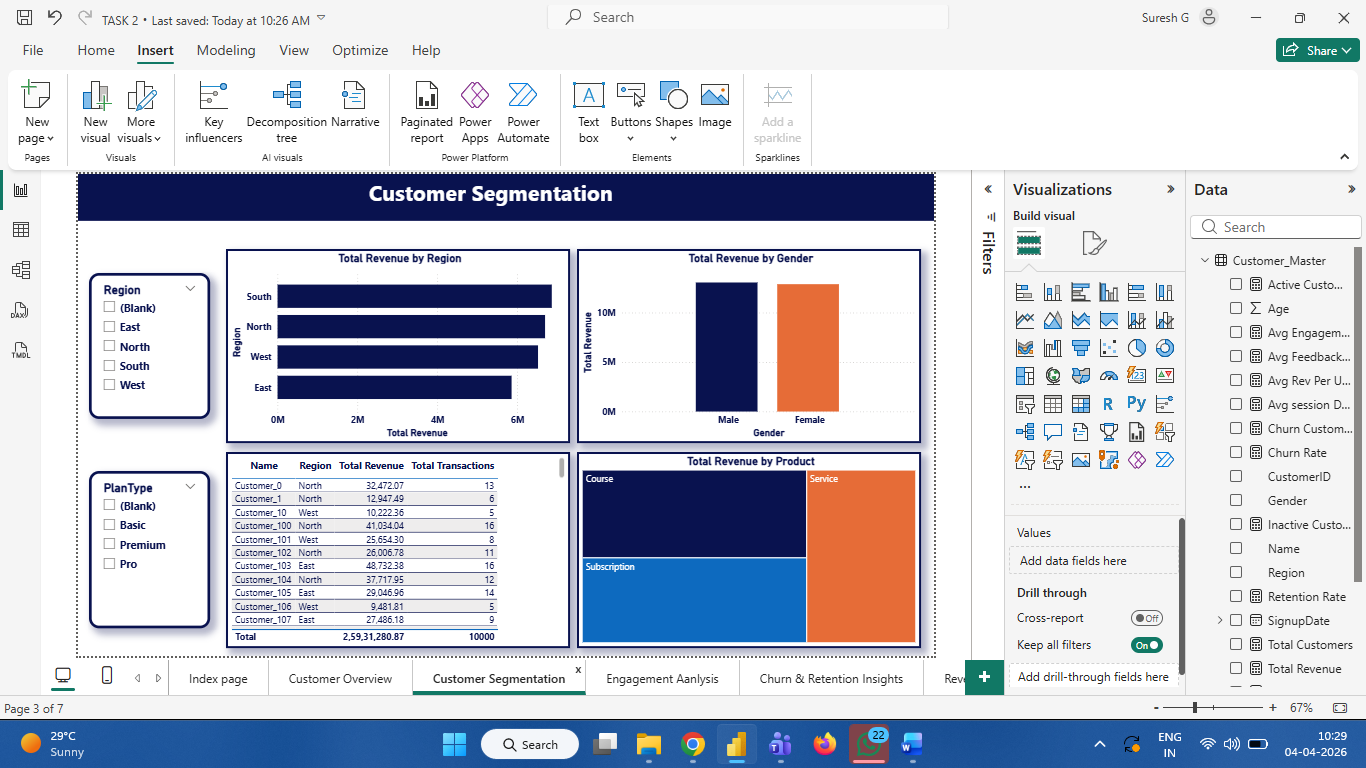

What the dashboard file says about the page in this screenshot:
{"tool":"powerbi","page":{"name":"Customer Segmentation","canvas":[1280,720],"ordinal":2},"visuals":[{"type":"textbox","box":[0,0,1280,70],"z":0},{"type":"donutChart","fields":{"Category":["Customer_Master.Region"],"Y":["Customer_Master.Total Revenue"]},"box":[221.1,112,513.9,289.8],"z":1000},{"type":"clusteredColumnChart","fields":{"Y":["Customer_Master.Total Revenue"],"Category":["Customer_Master.Gender"]},"box":[745.4,112,513.9,289.8],"z":2000},{"type":"tableEx","fields":{"Values":["Customer_Master.Name","Customer_Master.Region","Customer_Master.Total Revenue","Customer_Master.Total Transactions","Customer_Master.Avg session Duration"]},"box":[221.7,414.9,514,294],"z":3000},{"type":"treemap","fields":{"Values":["Customer_Master.Total Revenue"],"Group":["Transactions.Product"]},"box":[745.4,415.3,513.9,292.8],"z":4000},{"type":"slicer","fields":{"Values":["Customer_Master.Region"]},"box":[16.8,112.5,179.7,173],"z":5000},{"type":"slicer","fields":{"Values":["Subscription.PlanType"]},"box":[16.8,297.3,179.7,146.1],"z":6000},{"type":"cardVisual","fields":{"Data":["Customer_Master.Recency"]},"box":[16.8,456.9,179.7,120.9],"z":7000},{"type":"cardVisual","fields":{"Data":["Customer_Master.Frequency"]},"box":[16.8,589.6,179.7,117.6],"z":8000}]}

Visuals, with their boxes on the page's 1280x720 design canvas (x1, y1, x2, y2). These are canvas units, not pixel positions in the 1366x768 screenshot, which may show the page scaled, cropped or inside an application window:
textbox: bbox=[0, 0, 1280, 70]
donutChart - Customer_Master.Region x Customer_Master.Total Revenue: bbox=[221, 112, 735, 402]
clusteredColumnChart - Customer_Master.Total Revenue x Customer_Master.Gender: bbox=[745, 112, 1259, 402]
tableEx - Customer_Master.Name x Customer_Master.Region: bbox=[222, 415, 736, 709]
treemap - Customer_Master.Total Revenue x Transactions.Product: bbox=[745, 415, 1259, 708]
slicer - Customer_Master.Region: bbox=[17, 112, 196, 286]
slicer - Subscription.PlanType: bbox=[17, 297, 196, 443]
cardVisual - Customer_Master.Recency: bbox=[17, 457, 196, 578]
cardVisual - Customer_Master.Frequency: bbox=[17, 590, 196, 707]
